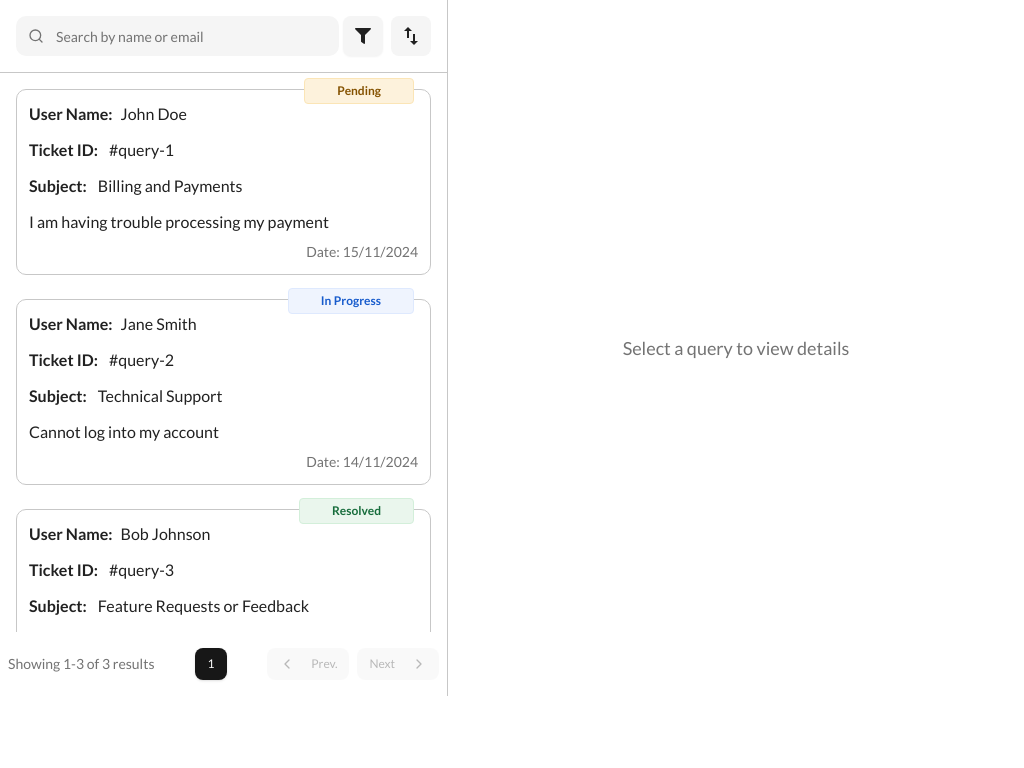
it: UserQueries - Integration Tests › Desktop View › should select and display query details when query is clicked
Click the element with test id "query-1": coordinates (224, 182) 16,89 -> 431,275
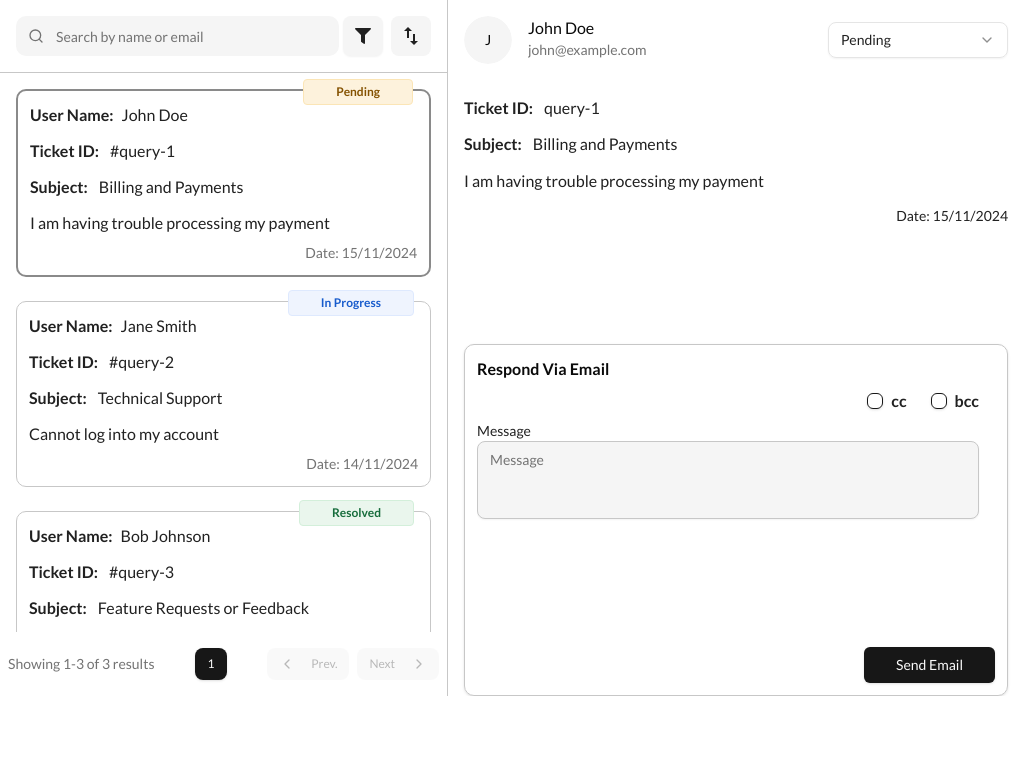
Check: the element with test id "query-detail" is shown, box 448,0 -> 1023,696
Check: the text with test id "message-content" reads "I am having trouble processing my payment", box 464,171 -> 764,190
